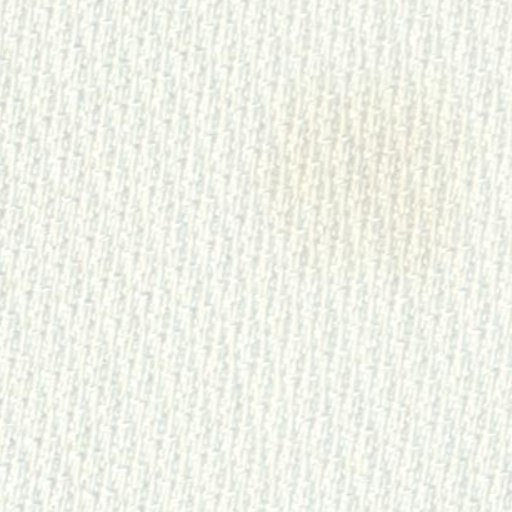WuZi: (257, 58, 468, 284)
